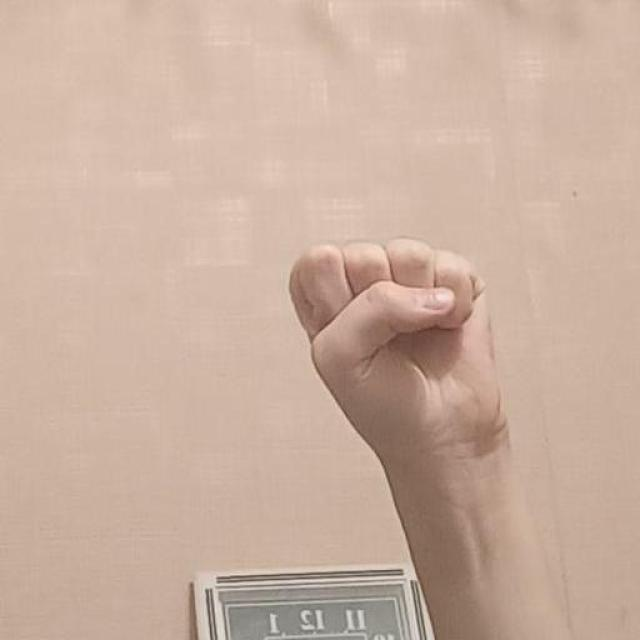hand: (286, 235, 580, 639), (286, 234, 510, 470)
